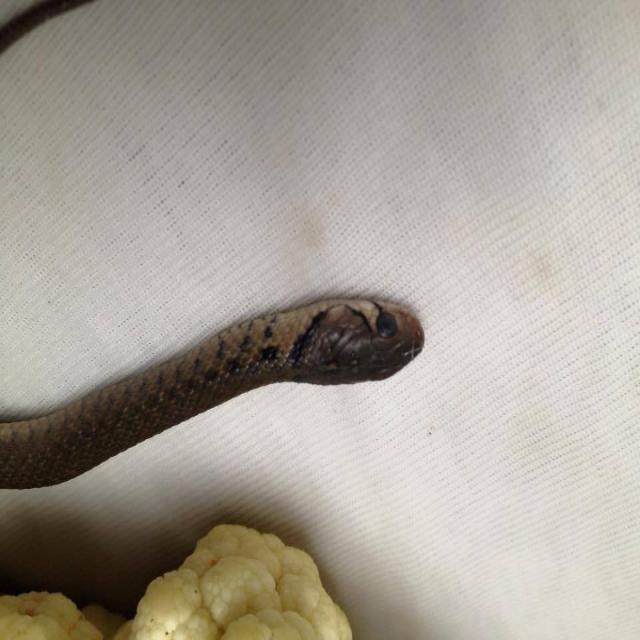Non-Venomous: (198, 306, 442, 398)
